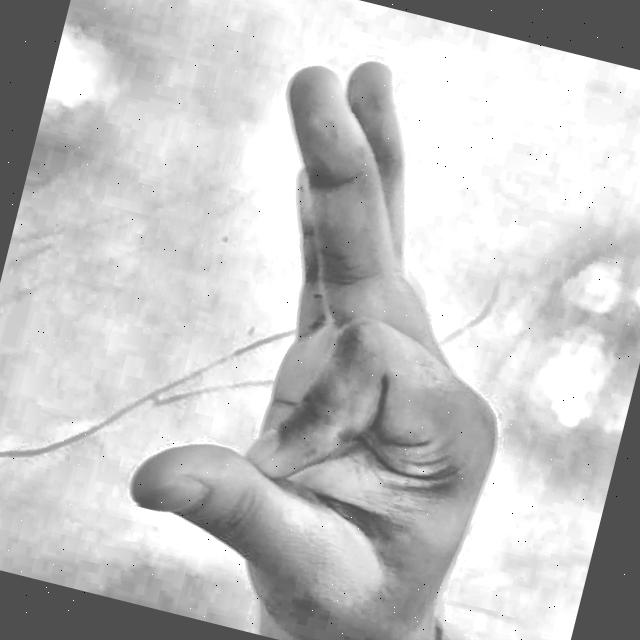Uo: (40, 0, 640, 640)
